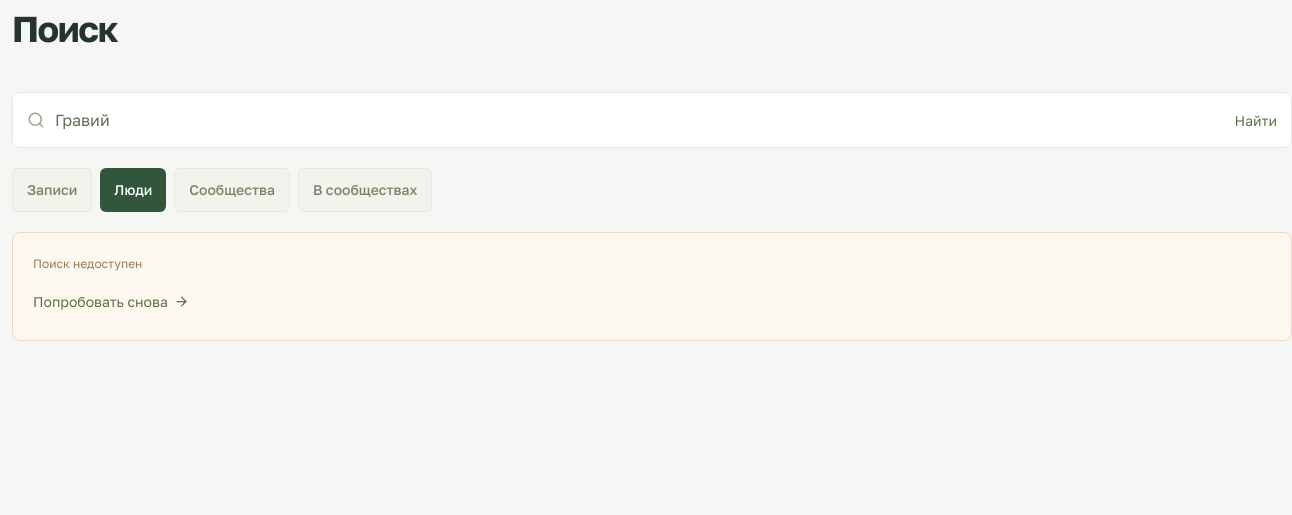
request errors can be retried and an empty later page has a path back to the beginning
Expected: the text "Поиск недоступен" is shown, [33,256,142,271]
Click the button "Попробовать снова": [111, 302] box [33,284,189,320]
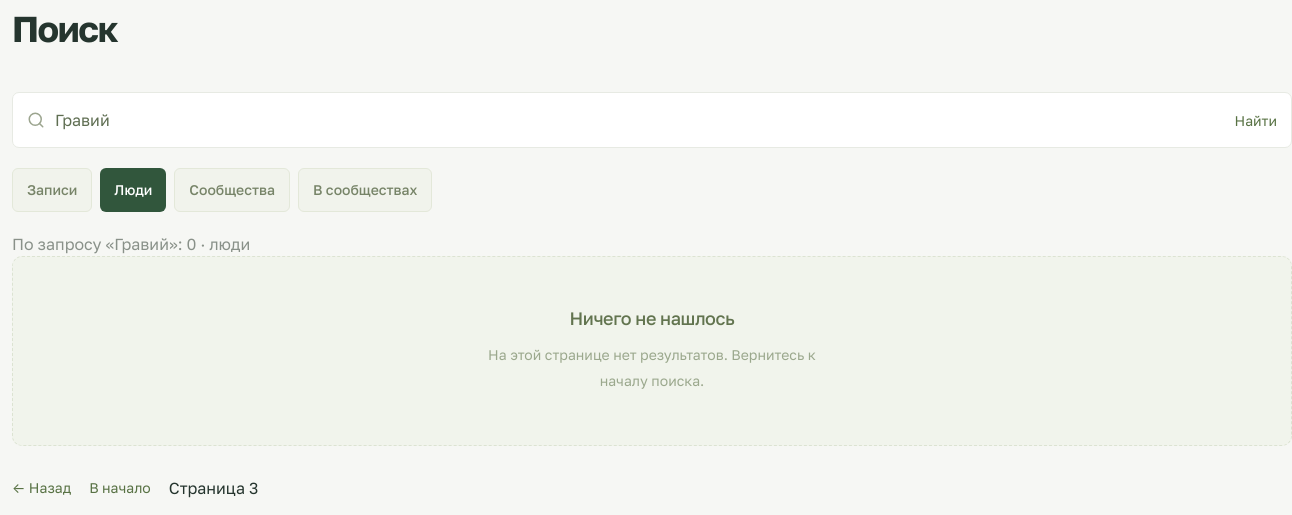
Result: the heading "Ничего не нашлось" is shown at [570,307,734,329]
